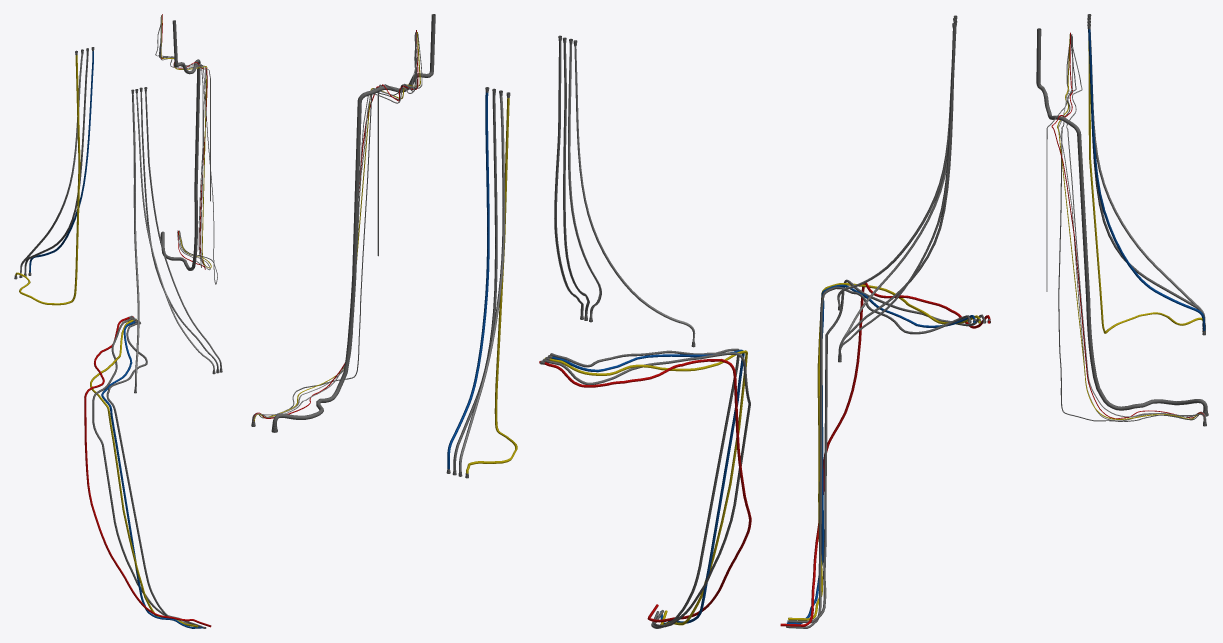
3 renders of one model, left to right at view 1: azimuth 30°, elevation 25°; view 2: azimuth 150°, elevation 25°; view 3: azimuth 270°, elevation 25°, orthographic. The views are drawn at different scales.
Visible parts, largest first — view 1: SM_H_Building_FutureTech_HBlue_01_InterWall_12E; view 2: SM_H_Building_FutureTech_HBlue_01_InterWall_12E; view 3: SM_H_Building_FutureTech_HBlue_01_InterWall_12E.
Boxes of the visible parts, x1,y1,x2,y2 form: SM_H_Building_FutureTech_HBlue_01_InterWall_12E: [14, 14, 222, 628]; SM_H_Building_FutureTech_HBlue_01_InterWall_12E: [251, 14, 751, 628]; SM_H_Building_FutureTech_HBlue_01_InterWall_12E: [780, 14, 1208, 628].
Bounding box in the file's own units: 294 × 231 × 488.
